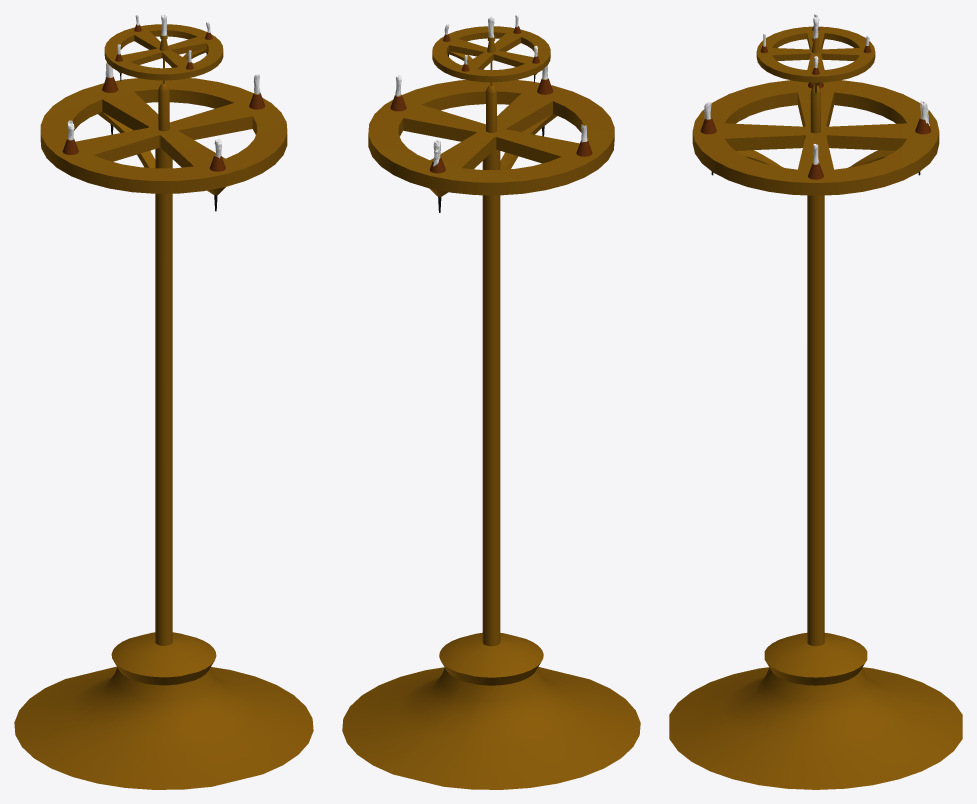
Rendered from candelabra.fbx.
The picture shows the model from 3 angles, left to right: view 1: azimuth 30°, elevation 25°; view 2: azimuth 150°, elevation 25°; view 3: azimuth 270°, elevation 25°; orthographic projection.
Parts seen in each view (by area): view 1: chandelabra1.001; view 2: chandelabra1.001; view 3: chandelabra1.001.
Boxes of the visible parts, x1=… form: chandelabra1.001: x1=14, y1=14, x2=313, y2=789; chandelabra1.001: x1=342, y1=14, x2=640, y2=789; chandelabra1.001: x1=669, y1=14, x2=962, y2=789.
Size of the model in its own units: 631 by 1654 by 618.
1 material, 1 textured.
